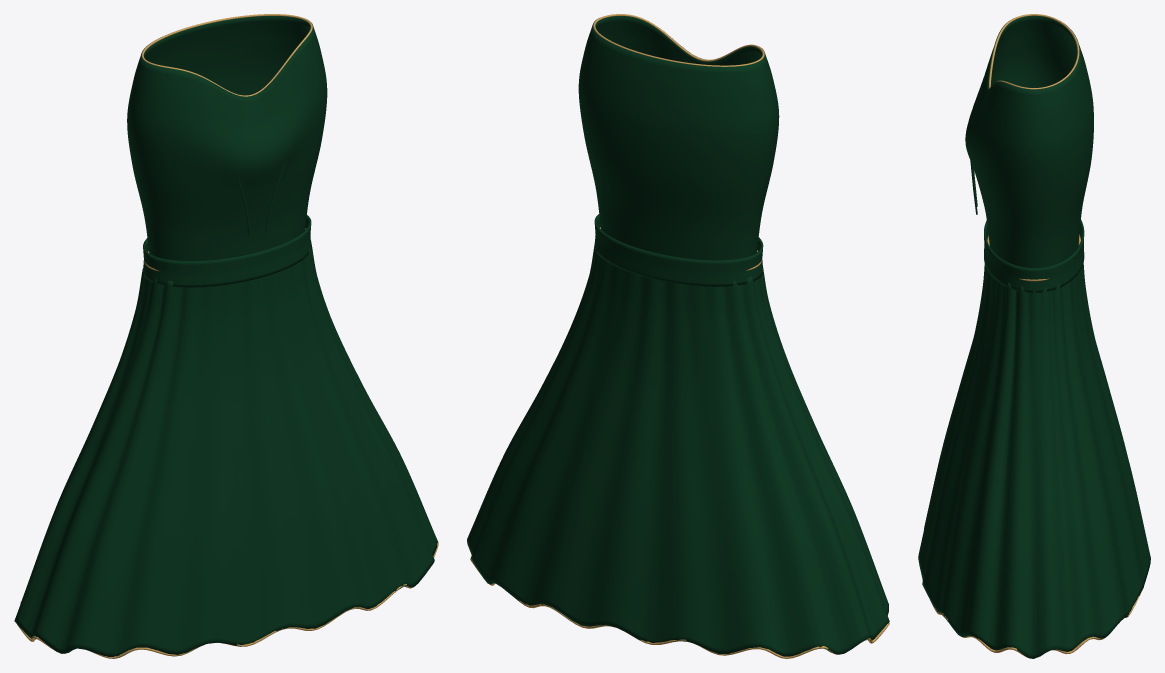
Rendered from vestido-elegante-demo.glb.
3 views of the same model, side by side, from view 1: azimuth 30°, elevation 25°; view 2: azimuth 150°, elevation 25°; view 3: azimuth 270°, elevation 25° (orthographic). The views are drawn at different scales.
Visible parts, largest first — view 1: Flowing A-line skirt, Tailored sleeveless bodice, Continuous fitted waist band, Sweetheart neckline piping, Fine curved hem piping; view 2: Flowing A-line skirt, Tailored sleeveless bodice, Continuous fitted waist band, Sweetheart neckline piping, Fine curved hem piping; view 3: Flowing A-line skirt, Tailored sleeveless bodice, Continuous fitted waist band, Sweetheart neckline piping, Fine curved hem piping.
Part boxes in pixels (<box>): Flowing A-line skirt: <box>14,241,437,656</box>; Tailored sleeveless bodice: <box>127,16,327,260</box>; Continuous fitted waist band: <box>143,215,311,287</box>; Sweetheart neckline piping: <box>141,14,312,96</box>; Fine curved hem piping: <box>17,541,438,658</box>; Flowing A-line skirt: <box>467,242,889,656</box>; Tailored sleeveless bodice: <box>578,16,779,260</box>; Continuous fitted waist band: <box>594,214,763,286</box>; Sweetheart neckline piping: <box>593,14,764,66</box>; Fine curved hem piping: <box>470,553,889,658</box>; Flowing A-line skirt: <box>918,263,1150,658</box>; Tailored sleeveless bodice: <box>965,15,1093,267</box>; Continuous fitted waist band: <box>984,220,1084,292</box>; Sweetheart neckline piping: <box>988,14,1079,89</box>; Fine curved hem piping: <box>930,589,1142,657</box>.
Bounding box in the file's own units: 0.8851 × 1.16 × 0.4725.
